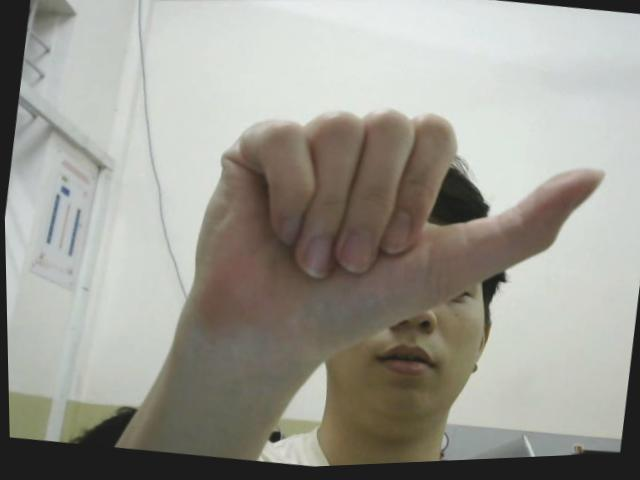A: (179, 77, 616, 402)
